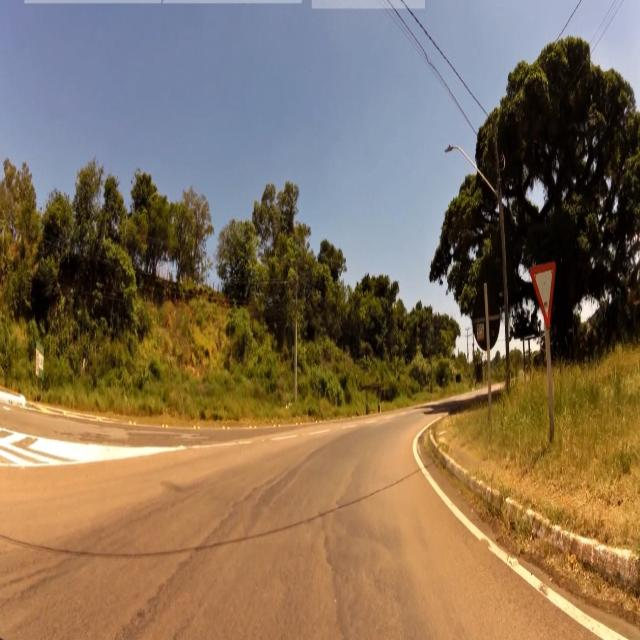R-2: (530, 258, 558, 329)
